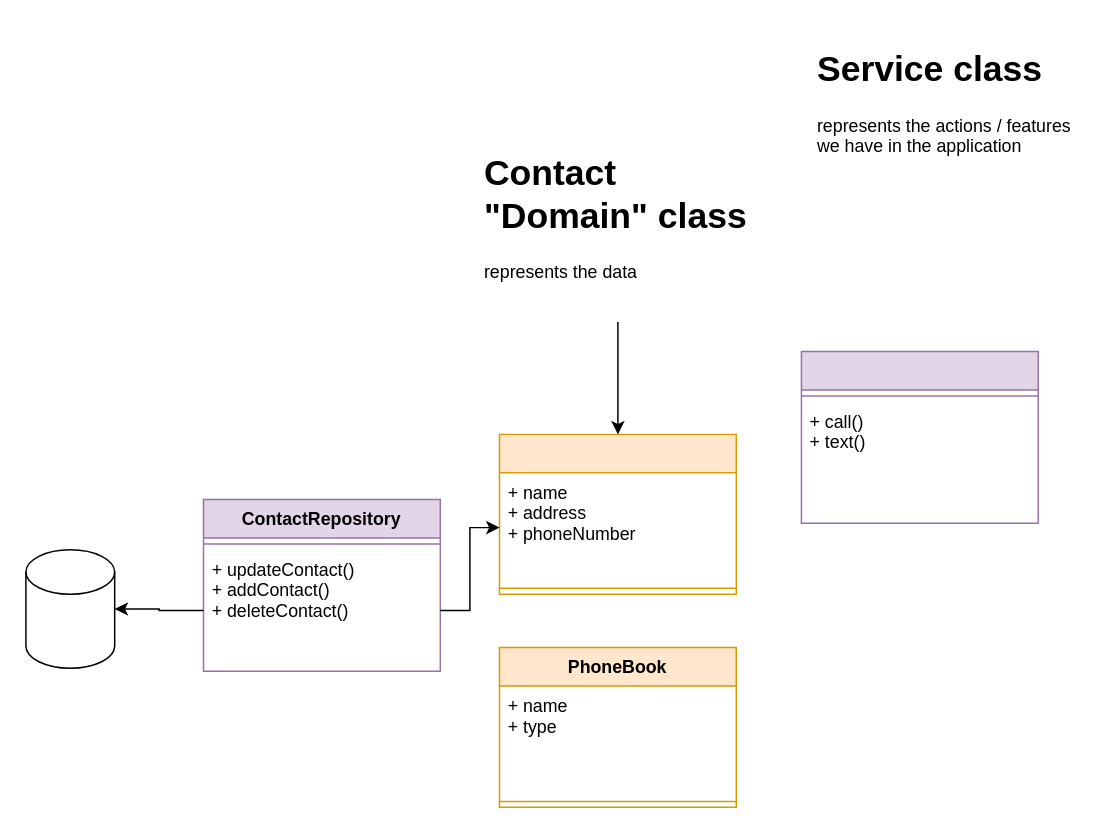
The diagram is 1117 pixels wide and 833 high, and some of its shapes have lost their labels. The box of each missing label's shape, as (x1, y1, x2, y2) in pixels:
Contact: (498, 433, 736, 594)
PhoneService: (800, 350, 1038, 523)
